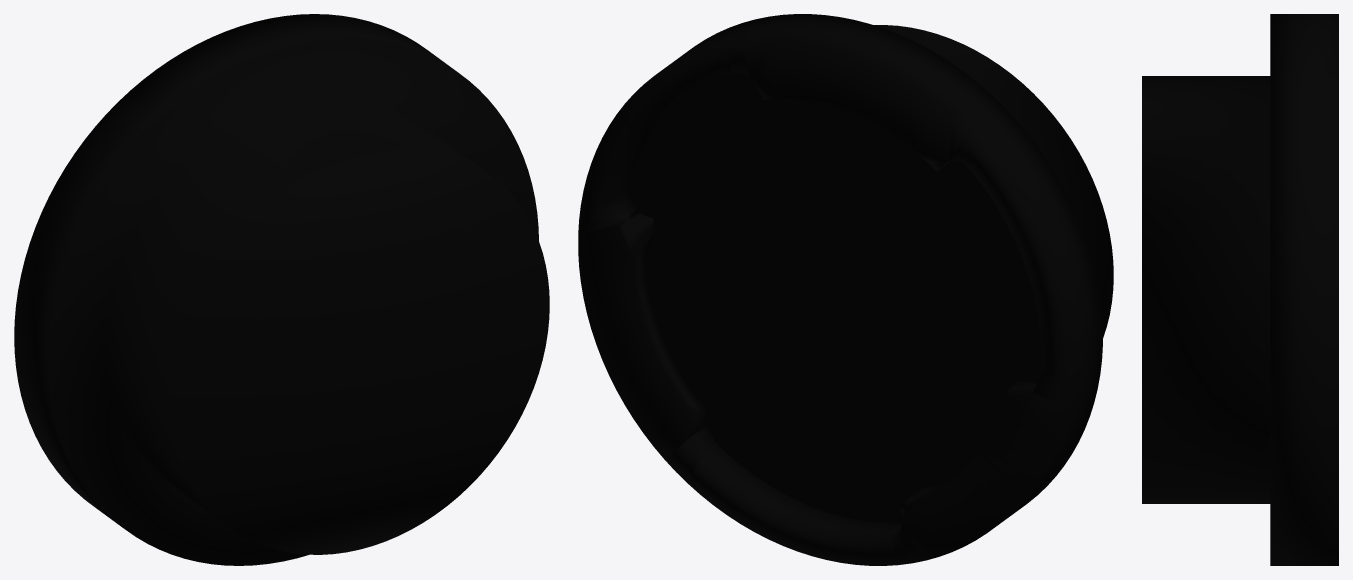
Rendered from attachment.dae.
3 views of the same model, side by side, from view 1: azimuth 30°, elevation 25°; view 2: azimuth 150°, elevation 25°; view 3: azimuth 270°, elevation 25° (orthographic). The views are drawn at different scales.
Visible parts, largest first — view 1: transform1; view 2: transform1; view 3: transform1.
Boxes of the visible parts, left/top/right/bottom form: transform1: left=14, top=14, right=549, bottom=565; transform1: left=578, top=14, right=1113, bottom=565; transform1: left=1142, top=14, right=1338, bottom=565.
Size of the model in its own units: 0.129 by 0.129 by 0.046.
1 material, 1 textured.
